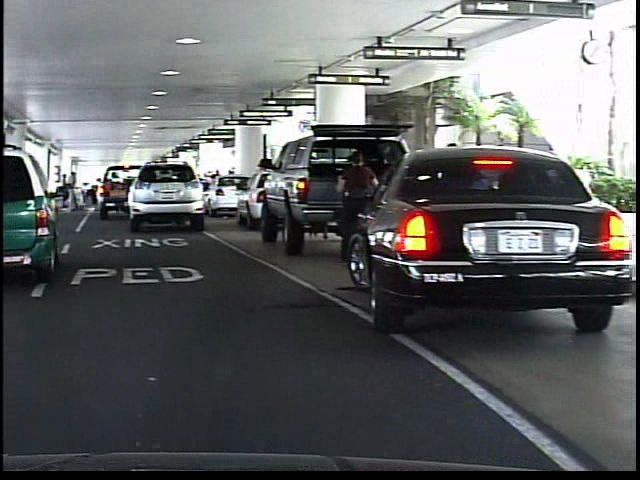person: (329, 149, 380, 259)
